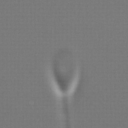normal: (54, 97, 81, 128)
